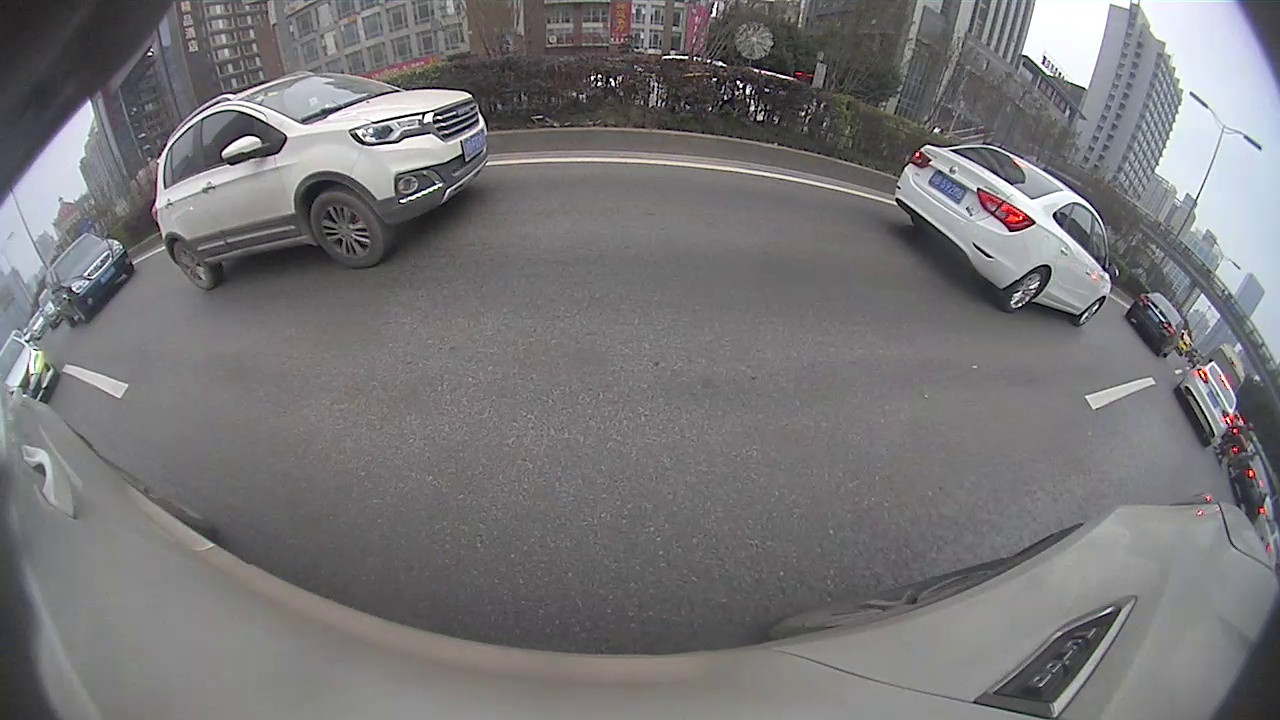car: (150, 69, 490, 291), (893, 142, 1122, 329), (46, 234, 137, 329), (1173, 362, 1238, 449), (1125, 291, 1185, 359)
front: (309, 193, 384, 269), (1077, 297, 1109, 325)
rear: (171, 239, 212, 291), (1003, 270, 1051, 313)
